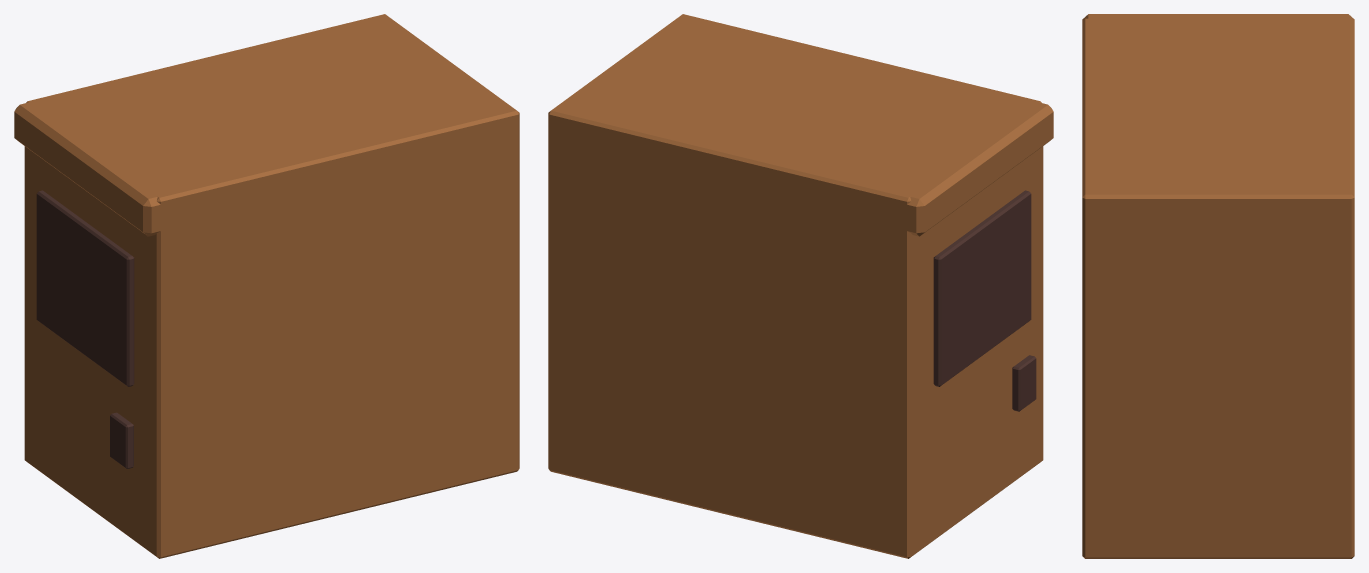
The model's file is pupitre_couloir.glb.
The picture shows the model from 3 angles, left to right: view 1: azimuth 30°, elevation 25°; view 2: azimuth 150°, elevation 25°; view 3: azimuth 270°, elevation 25°; orthographic projection.
Parts seen in each view (by area): view 1: pupitre_couloir; view 2: pupitre_couloir; view 3: pupitre_couloir.
Boxes of the visible parts, bbox=[...] form: pupitre_couloir: bbox=[14, 14, 519, 558]; pupitre_couloir: bbox=[548, 14, 1053, 558]; pupitre_couloir: bbox=[1082, 14, 1354, 558].
Size of the model in its own units: 1.25 by 1.15 by 0.78.
1 material, 1 textured.
